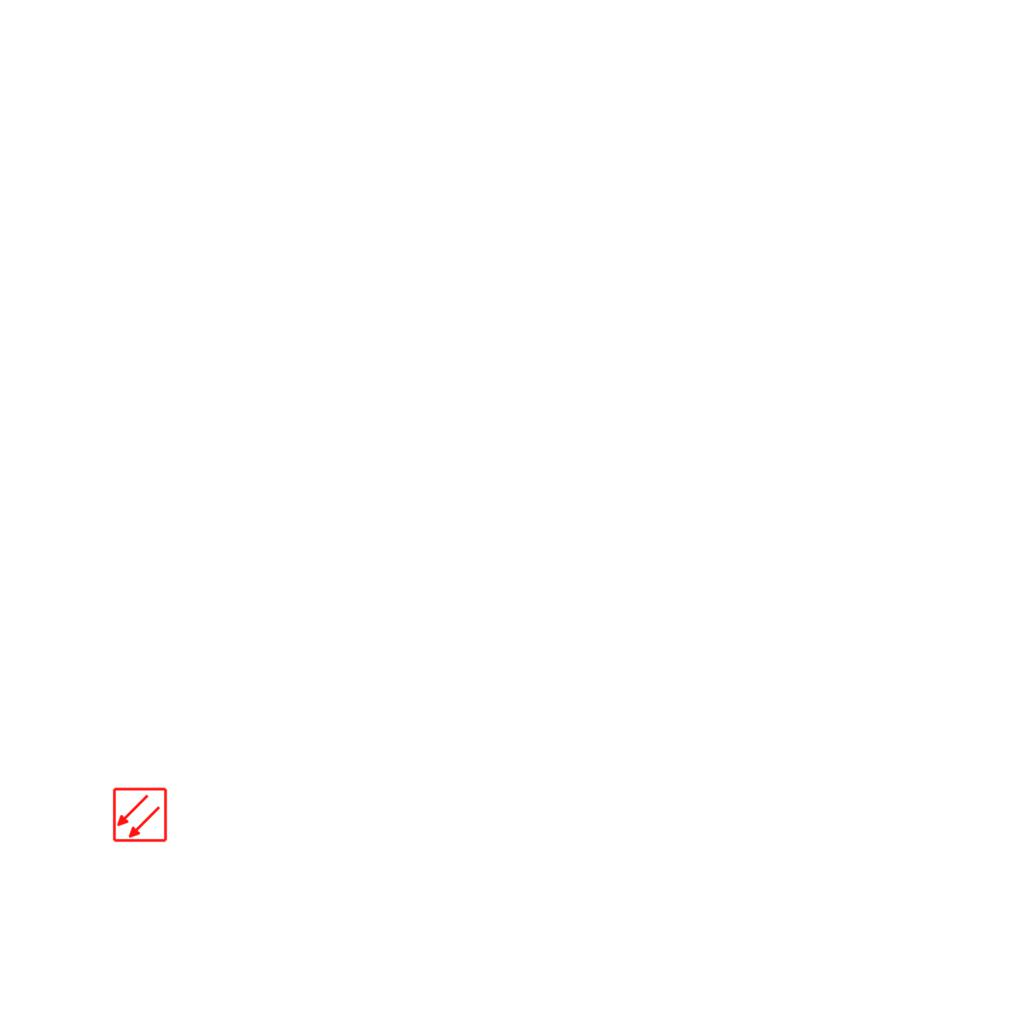RMO_Rauchmelder_optischer: (112, 787, 168, 843)
